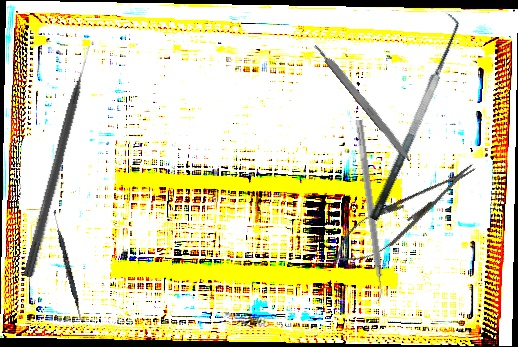Needle Holder: (321, 150, 487, 279)
Pusher: (22, 44, 97, 279)
Scalpel Handle: (312, 40, 415, 164)
Spatula Surgical: (352, 11, 472, 223), (347, 119, 389, 302), (49, 209, 86, 321)
